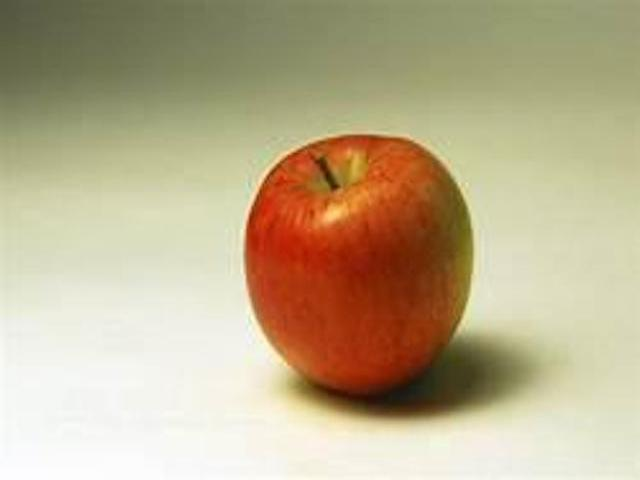apple: (236, 126, 482, 401)
